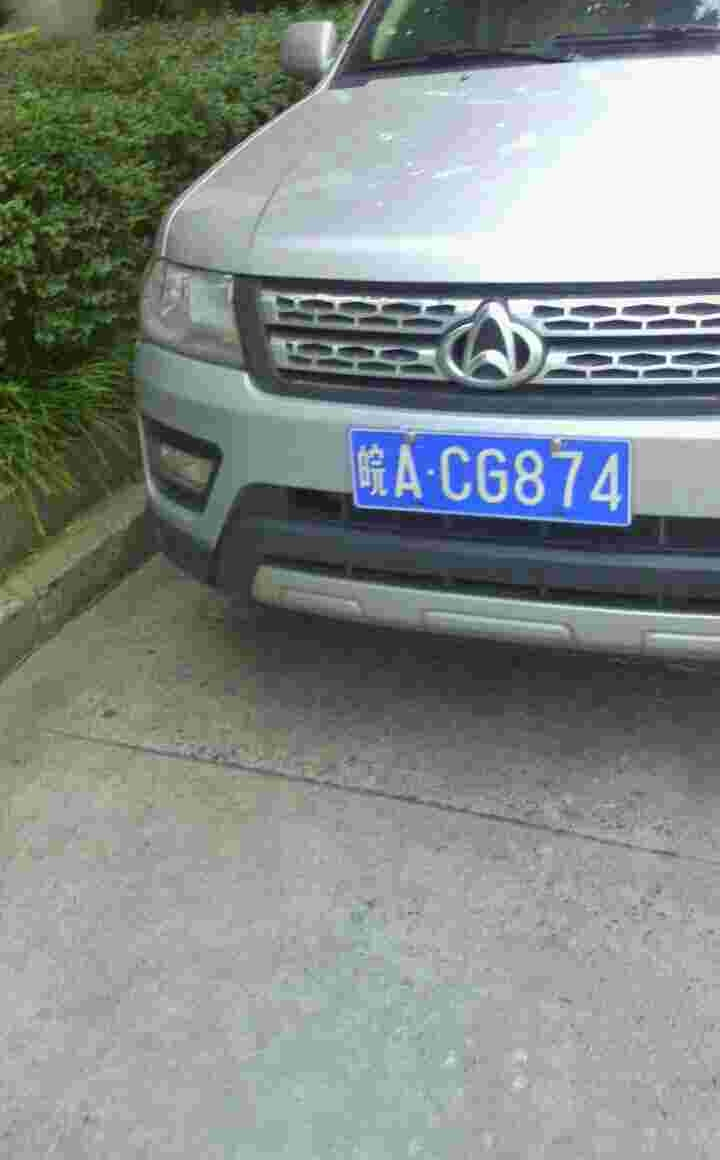license_plate: (340, 427, 629, 530)
